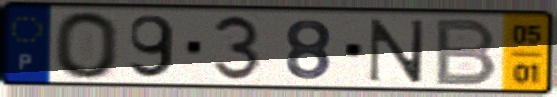3: (208, 12, 265, 85)
8: (283, 17, 336, 81)
9: (127, 13, 177, 81)
B: (431, 16, 501, 87)
N: (365, 17, 429, 85)
O: (51, 9, 122, 82)
